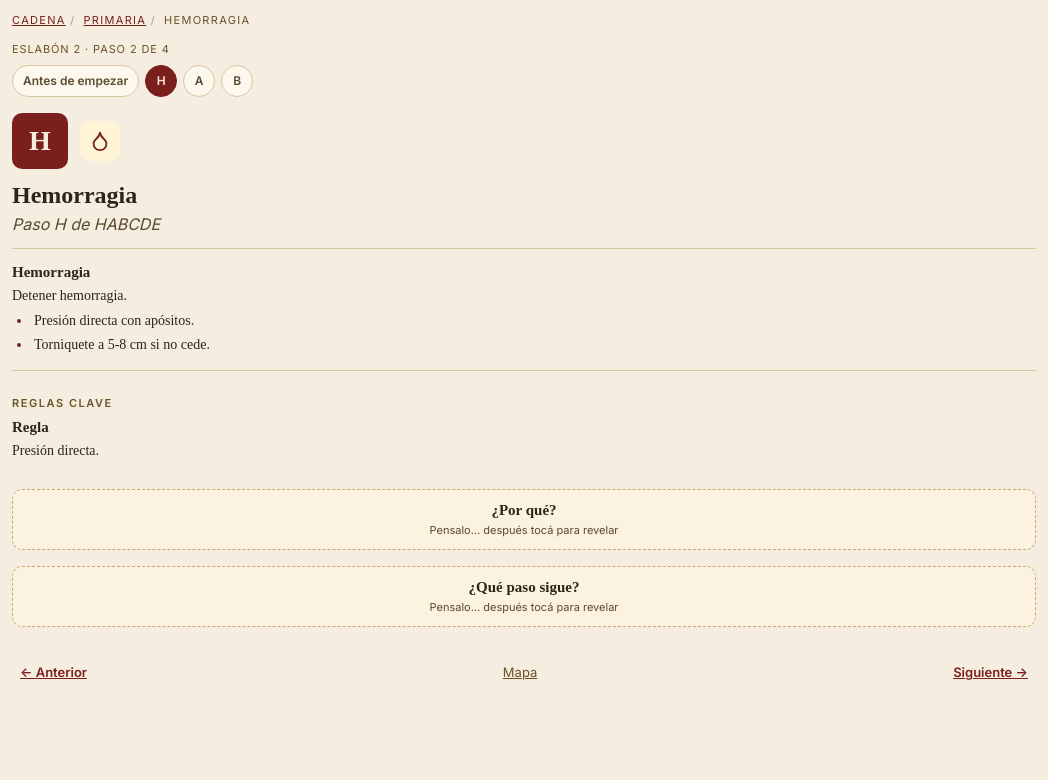
Test: NodeDetail › shows the position in the link and a sibling strip; the next step is hidden behind a recall prompt
This screenshot has width=1048, height=780.
Check: the text "Eslabón 2 · paso 2 de 4" is shown, box 12,42 -> 170,56
Check: the link "H" is shown, box 145,65 -> 177,97
Step 1. Click the button with aria-label "Revelar: ¿Qué paso sigue?" → (524, 597), box 12,566 -> 1036,627
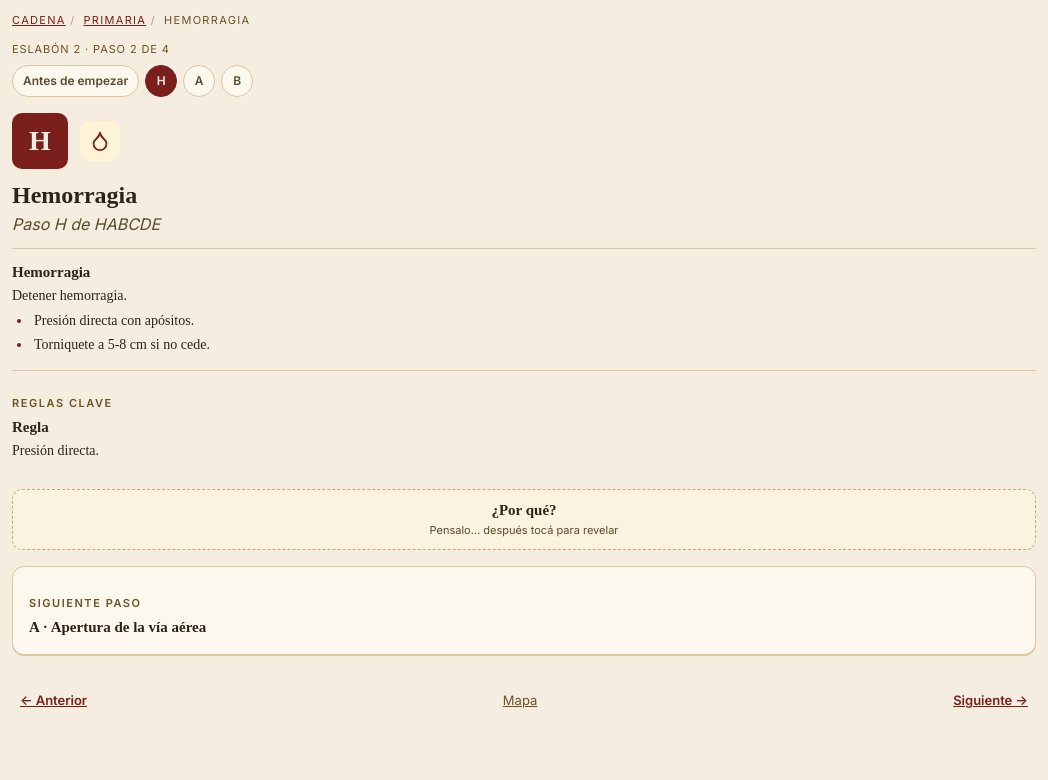
Check: the text "Siguiente paso" is shown, box 29,596 -> 142,610
Check: the text "A · Apertura de la vía aérea" is shown, box 29,619 -> 206,635
